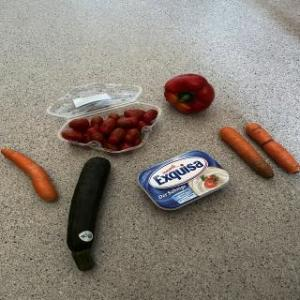carrot: (202, 120, 291, 189), (0, 144, 67, 207), (236, 115, 300, 180)
tomato: (55, 100, 166, 159)
zucchini: (57, 154, 120, 274)
